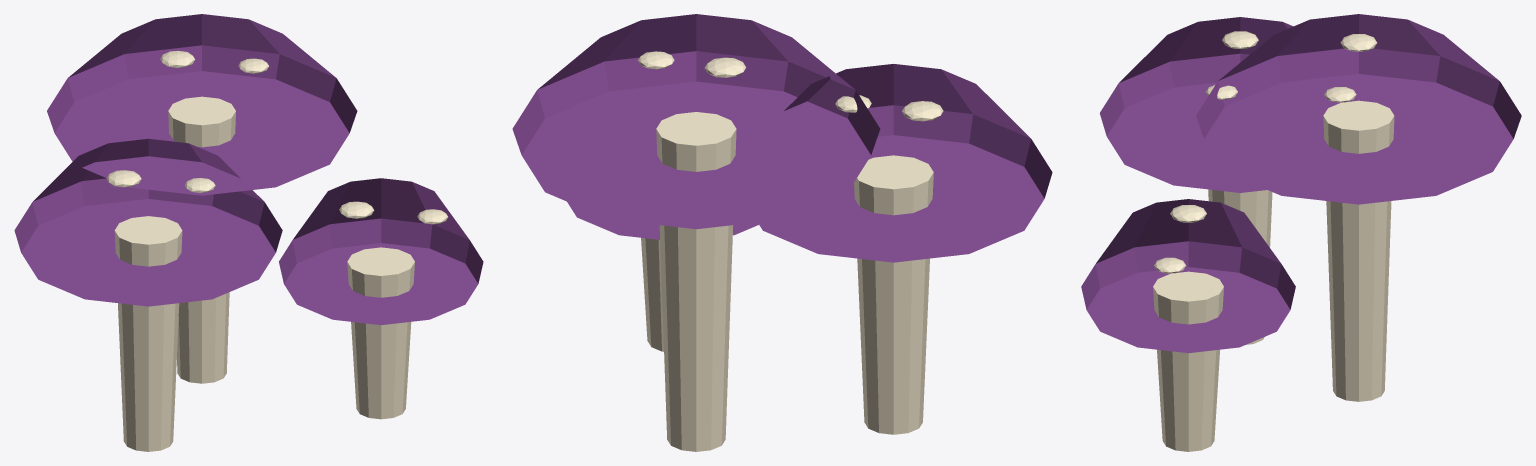
Rendered from moonlit-mischief-toadstool-cluster-01da1855__2263.glb.
3 renders of one model, left to right at view 1: azimuth 30°, elevation 25°; view 2: azimuth 150°, elevation 25°; view 3: azimuth 270°, elevation 25°, orthographic. The views are drawn at different scales.
Parts seen in each view (by area): view 1: toadstool-cluster; view 2: toadstool-cluster; view 3: toadstool-cluster.
Boxes of the visible parts, x1,y1,x2,y2 form: toadstool-cluster: [14, 14, 483, 451]; toadstool-cluster: [512, 14, 1052, 451]; toadstool-cluster: [1081, 14, 1521, 451].
Bounding box in the file's own units: 0.675 × 0.53 × 0.595.
